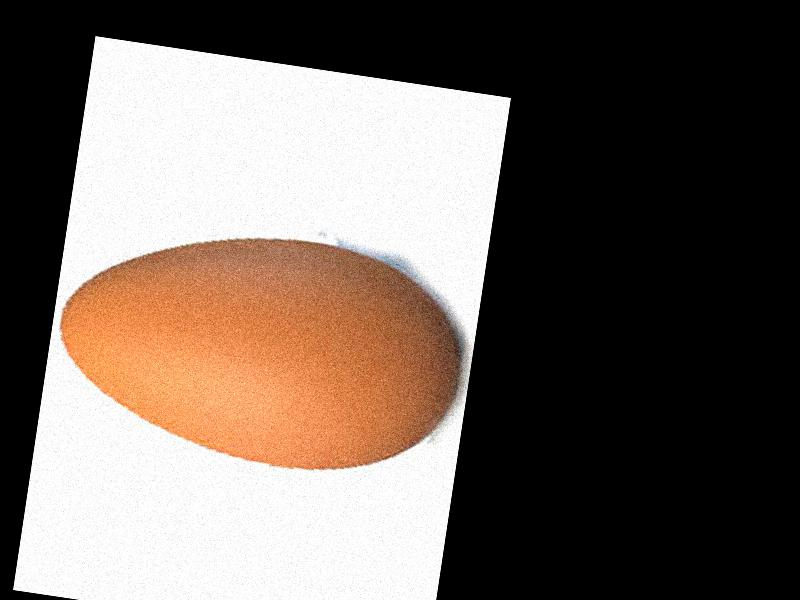Eggs: (46, 209, 475, 491)
